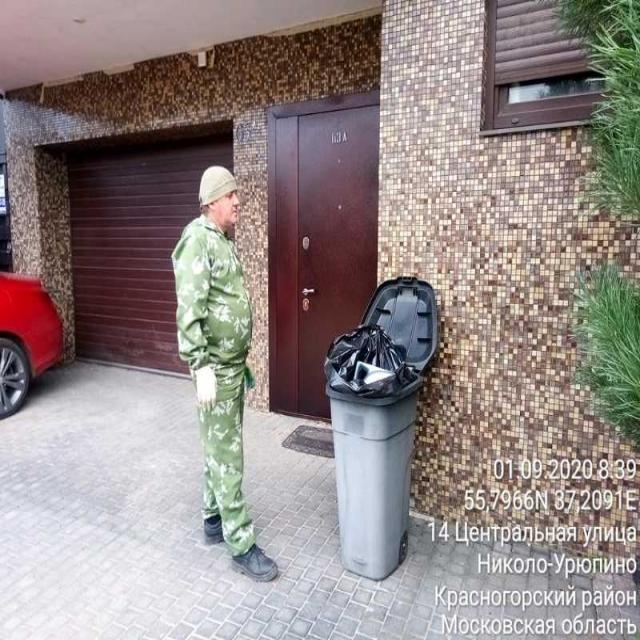Dumpster: (329, 347, 422, 580)
